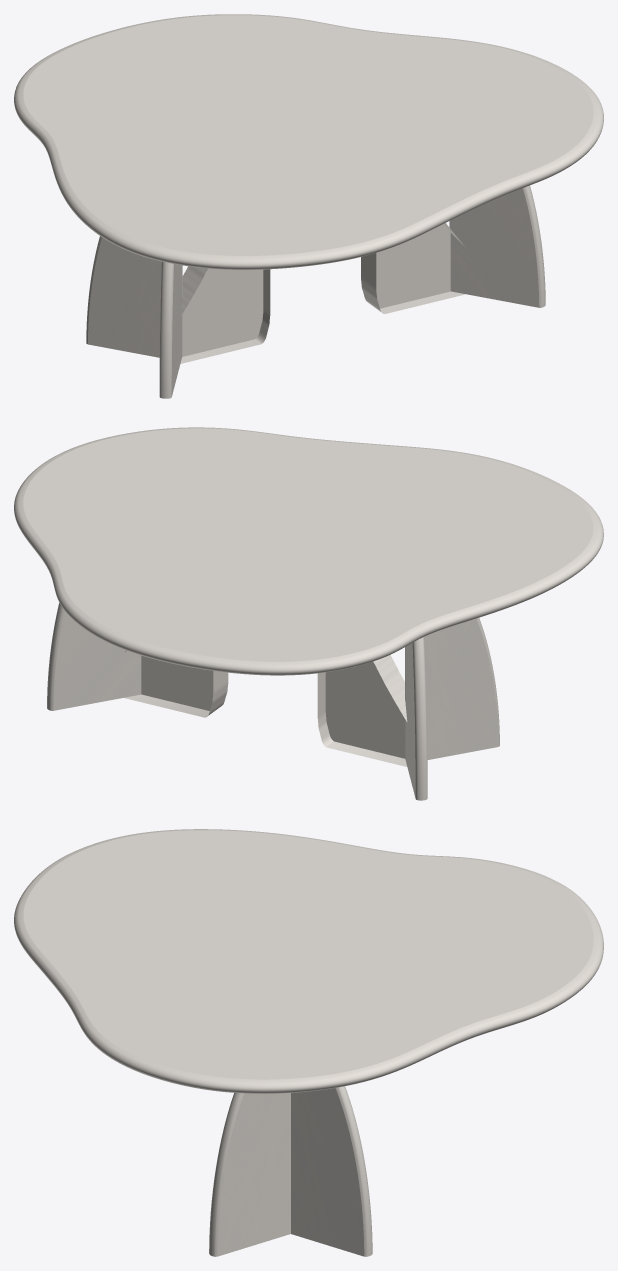
Rendered from pearlwhite_topone_round_plane.glb.
3 views of the same model, one above another, from view 1: azimuth 30°, elevation 25°; view 2: azimuth 150°, elevation 25°; view 3: azimuth 270°, elevation 25° (orthographic). The views are drawn at different scales.
Parts seen in each view (by area): view 1: round_topone, plane_singleright2, plane_single1, plane_singleleft1, plane_single2, plane_singleright1; view 2: round_topone, plane_singleright1, plane_single1, plane_singleleft2, plane_single2, plane_singleleft1; view 3: round_topone, plane_singleleft2, plane_singleright2.
Part boxes in pixels (box(x1,y1,x2,y2)): round_topone: box(14, 14, 603, 269); plane_singleright2: box(449, 185, 545, 307); plane_single1: box(180, 266, 270, 363); plane_singleleft1: box(86, 236, 182, 357); plane_single2: box(361, 223, 465, 313); plane_singleright1: box(159, 261, 182, 398); round_topone: box(14, 427, 603, 675); plane_singleright1: box(405, 618, 499, 759); plane_single1: box(317, 655, 407, 766); plane_singleleft2: box(47, 603, 141, 710); plane_single2: box(124, 650, 228, 717); plane_singleleft1: box(405, 637, 427, 800); round_topone: box(14, 829, 603, 1093); plane_singleleft2: box(291, 1086, 372, 1256); plane_singleright2: box(209, 1093, 290, 1256).
Bounding box in the file's own units: 6.83 × 2.49 × 6.6.
Materials: 1 (1 with a texture image).
